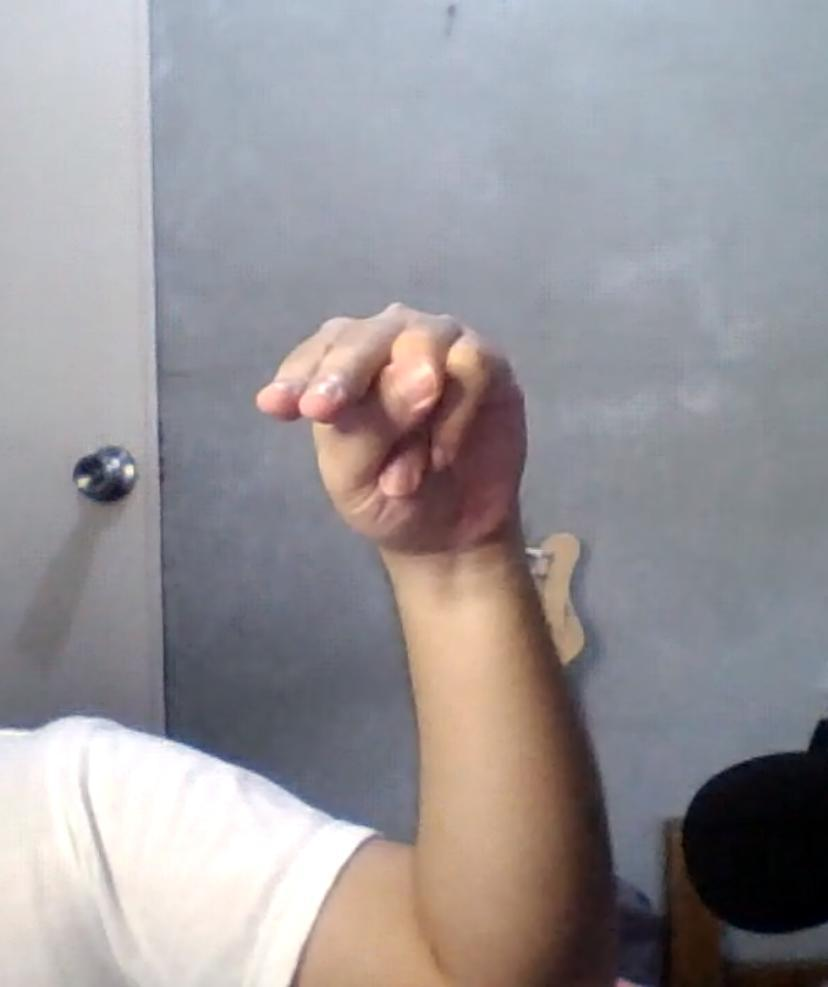n: (255, 304, 530, 543)
